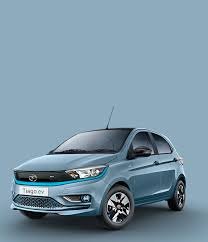Tiago: (10, 127, 188, 231)
